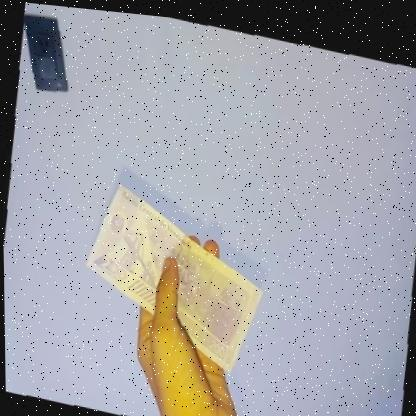two_hundred-back-vef: (71, 172, 273, 375)
